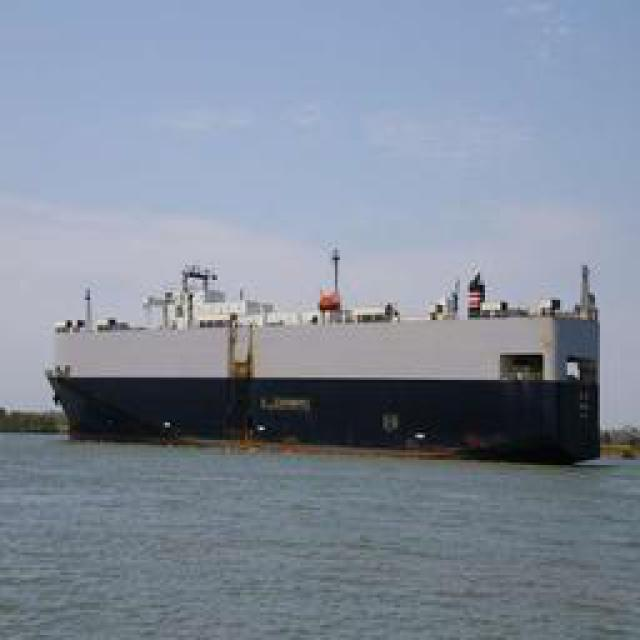Ship: (54, 268, 614, 456)
